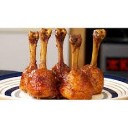chicken_lollipop: (55, 29, 92, 101), (20, 29, 57, 100), (86, 28, 110, 95)
